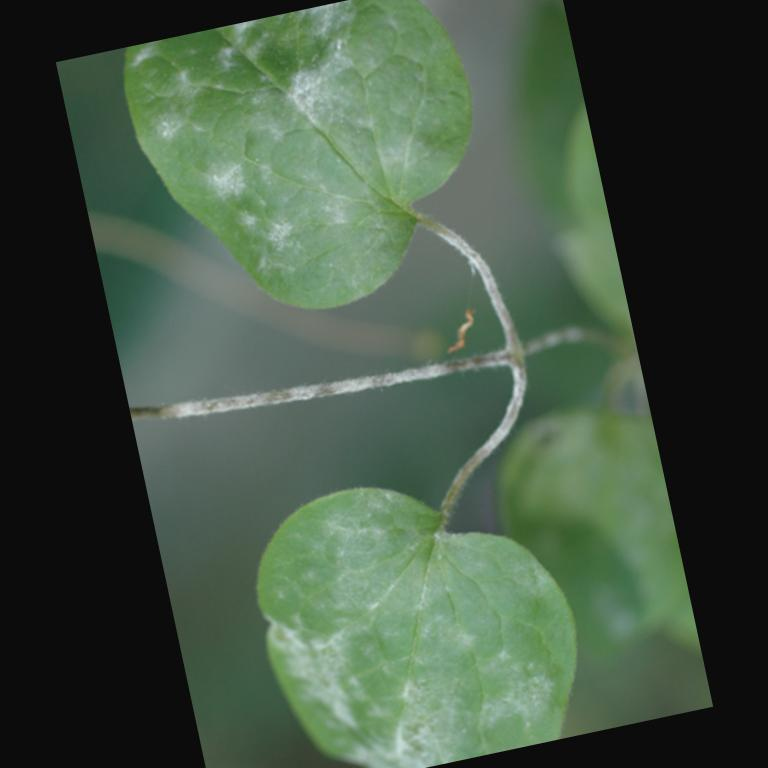powdery-mildew: (251, 16, 376, 165)
